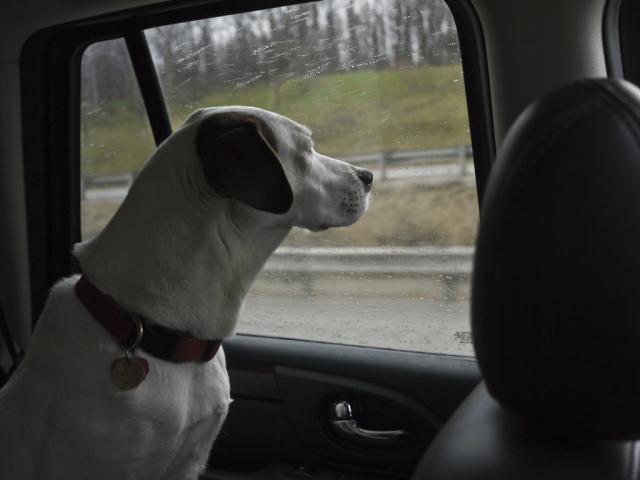Dog: (2, 104, 374, 480)
